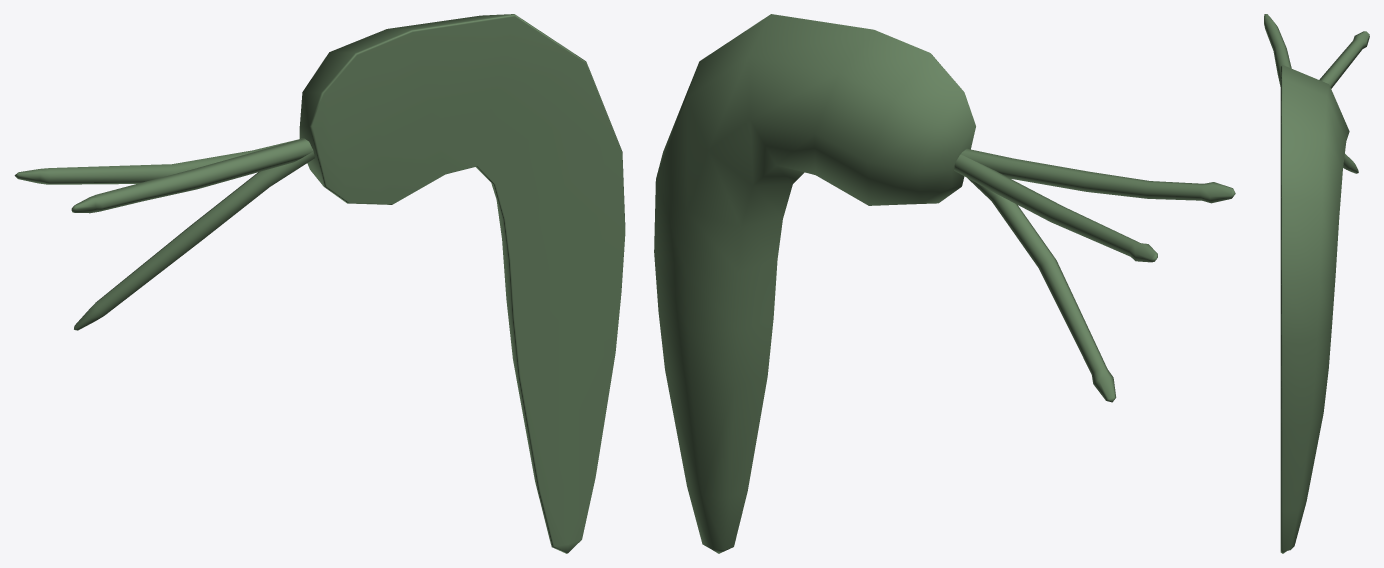
The model's file is Food_Carrot_Half.fbx.
3 views of the same model, side by side, from view 1: azimuth 30°, elevation 25°; view 2: azimuth 150°, elevation 25°; view 3: azimuth 270°, elevation 25° (orthographic). The views are drawn at different scales.
Parts seen in each view (by area): view 1: Carrot_Half; view 2: Carrot_Half; view 3: Carrot_Half.
Part boxes in pixels (x1=…): Carrot_Half: x1=14, y1=14, x2=625, y2=553; Carrot_Half: x1=654, y1=14, x2=1235, y2=553; Carrot_Half: x1=1264, y1=14, x2=1369, y2=553.
Bounding box in the file's own units: 29.81 × 28.36 × 6.49.
